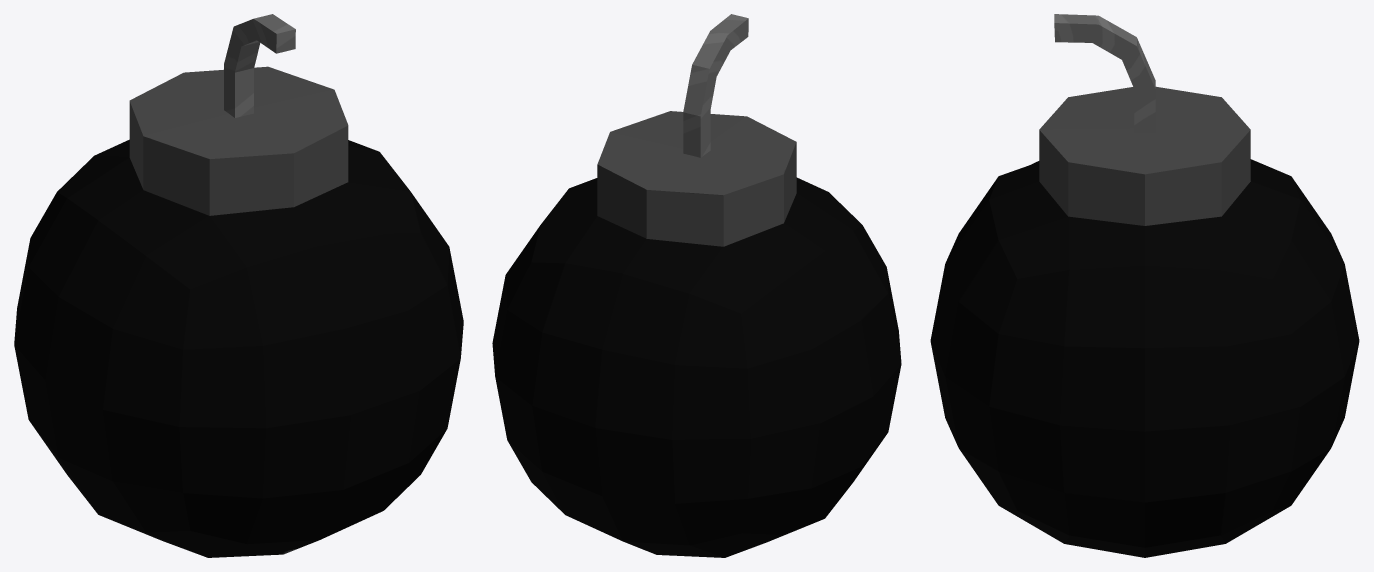
Rendered from Bomb.glb.
The picture shows the model from 3 angles, left to right: view 1: azimuth 30°, elevation 25°; view 2: azimuth 150°, elevation 25°; view 3: azimuth 270°, elevation 25°; orthographic projection. The views are drawn at different scales.
Parts seen in each view (by area): view 1: Body, Fuse; view 2: Body, Fuse; view 3: Body, Fuse.
Part boxes in pixels (x1,y1,x2,y2): Body: (14, 66, 463, 557); Fuse: (224, 14, 295, 117); Body: (492, 111, 901, 557); Fuse: (683, 14, 748, 157); Body: (930, 86, 1359, 557); Fuse: (1054, 14, 1155, 132).
Size of the model in its own units: 0.4322 by 0.5745 by 0.4322.
Materials: 1 (1 with a texture image).
